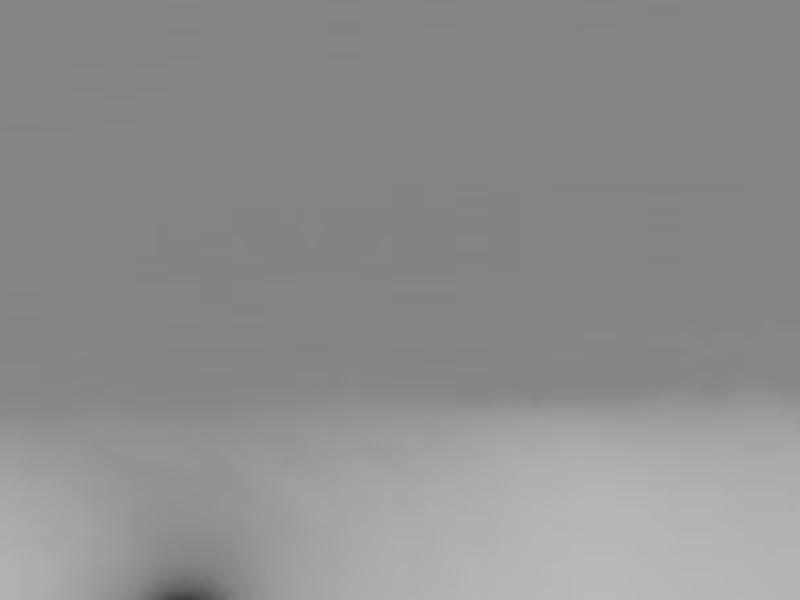defect: (132, 586, 225, 600)
